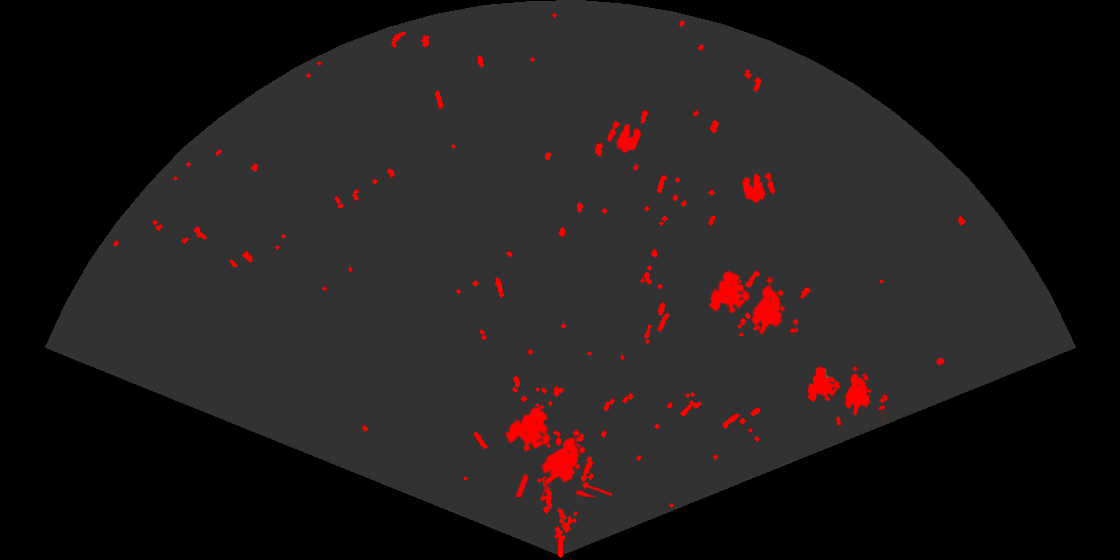ball: (605, 119, 643, 154), (740, 171, 777, 205)
cage: (503, 405, 612, 497), (707, 269, 798, 336), (806, 365, 885, 425)
